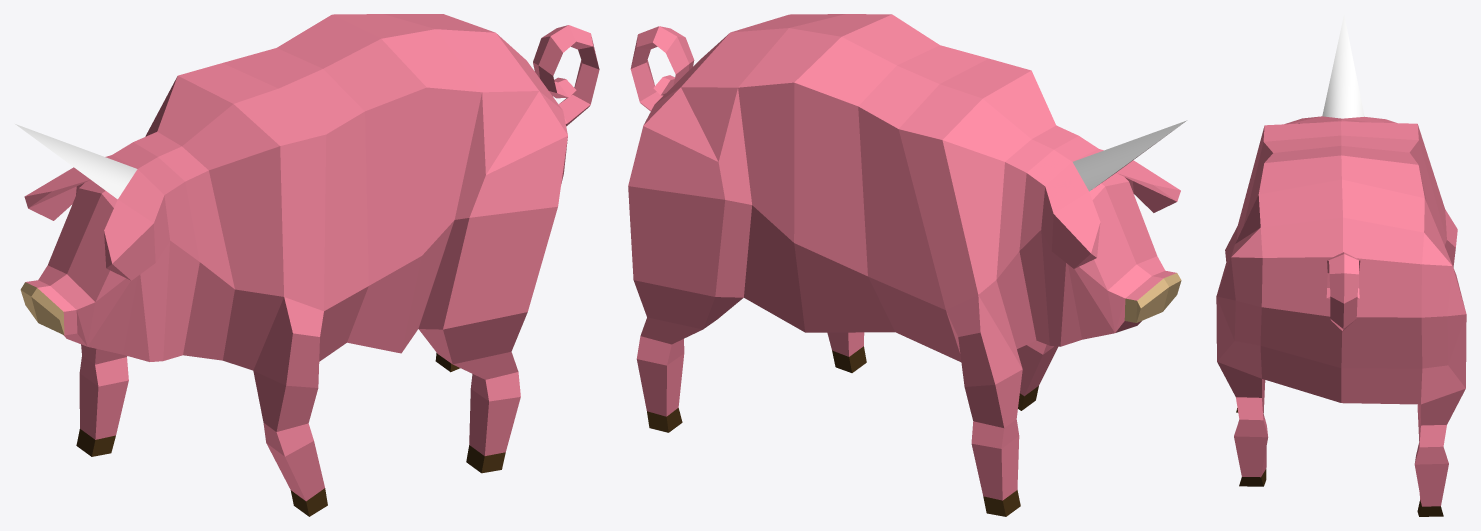
File: pigWalking17.obj
3 renders of one model, left to right at view 1: azimuth 30°, elevation 25°; view 2: azimuth 150°, elevation 25°; view 3: azimuth 270°, elevation 25°, orthographic. The views are drawn at different scales.
Visible parts, largest first — view 1: Pig_Cylinder; view 2: Pig_Cylinder; view 3: Pig_Cylinder.
Boxes of the visible parts, x1,y1,x2,y2 form: Pig_Cylinder: (15,14,599,516); Pig_Cylinder: (628,14,1187,516); Pig_Cylinder: (1216,14,1466,516).
Bounding box in the file's own units: 23.37 × 15.35 × 11.11.
